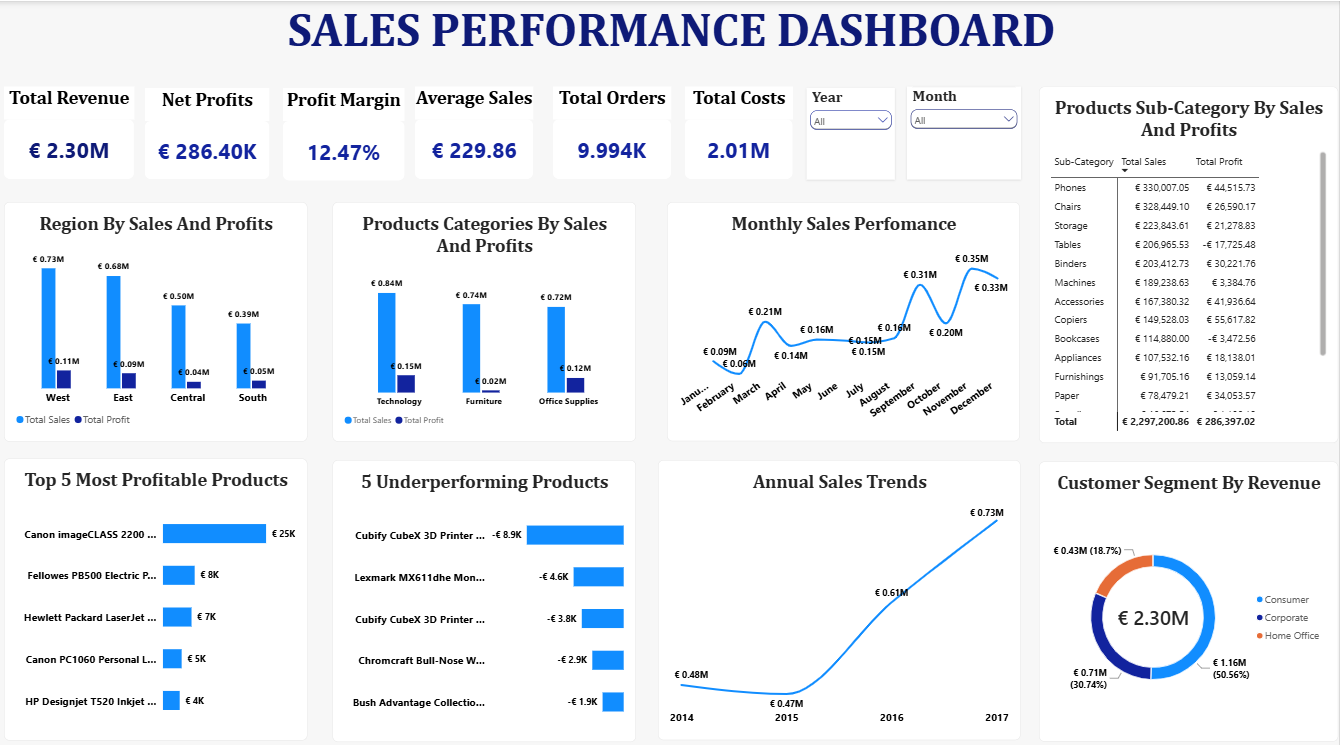

This screenshot's page, from the dashboard's own definition file:
{"tool":"powerbi","page":{"name":"Page 1","canvas":[1920,1080],"ordinal":0},"visuals":[{"type":"textbox","title":"SALES PERFORMANCE DASHBOARD","box":[8.9,0,1912.1,92.3],"z":0},{"type":"cardVisual","title":"Total Revenue","fields":{"Data":["Sum(Sample - Superstore.Sales)"]},"box":[8.6,122.5,186.9,133.2],"z":1},{"type":"cardVisual","title":"Net Profits","fields":{"Data":["Sum(Sample - Superstore.Profit)"]},"box":[210.6,124.6,178.3,131.1],"z":2},{"type":"cardVisual","title":"Total Orders","fields":{"Data":["CountNonNull(Sample - Superstore.Order ID)"]},"box":[795,122.5,169.7,132.4],"z":3},{"type":"cardVisual","title":"Average Sales","fields":{"Data":["Avg(Sample - Superstore.Sales)"]},"box":[597.3,122.5,169.7,132.4],"z":4},{"type":"cardVisual","title":"Profit Margin","fields":{"Data":["Sample - Superstore.Profits Margin"]},"box":[408.2,124.6,174,133.2],"z":5},{"type":"clusteredColumnChart","title":"Region By Sales And Profits","fields":{"Category":["Sample - Superstore.Region"],"Y":["Sum(Sample - Superstore.Sales)","Sum(Sample - Superstore.Profit)"]},"box":[9.1,288.6,434.4,343.3],"z":6},{"type":"donutChart","title":"Customer Segment By Revenue","fields":{"Category":["Sample - Superstore.Segment"],"Y":["Sum(Sample - Superstore.Sales)"]},"box":[1491.6,659.2,428.4,401],"z":7},{"type":"clusteredColumnChart","title":"Products Categories By Sales And Profits","fields":{"Category":["Sample - Superstore.Category"],"Y":["Sum(Sample - Superstore.Sales)","Sum(Sample - Superstore.Profit)"]},"box":[480,288.6,434.4,343.3],"z":8},{"type":"clusteredBarChart","title":"Top 5 Most Profitable Products","fields":{"Category":["Sample - Superstore.Product Name"],"Y":["Sum(Sample - Superstore.Profit)"]},"box":[9.1,656.2,434.4,404.1],"z":9},{"type":"clusteredBarChart","title":"5 Underperforming Products","fields":{"Category":["Sample - Superstore.Product Name"],"Y":["Sum(Sample - Superstore.Profit)"]},"box":[480,657.9,434.4,404.1],"z":10},{"type":"lineChart","title":"Annual Sales Trends","fields":{"Category":["Sample - Superstore.Order Date.Variation.Date Hierarchy.Year"],"Y":["Sum(Sample - Superstore.Sales)"]},"box":[945,656.8,519.5,401],"z":11},{"type":"pivotTable","title":"Products Sub-Category By Sales And Profits","fields":{"Rows":["Sample - Superstore.Sub-Category"],"Values":["Sum(Sample - Superstore.Sales)","Sum(Sample - Superstore.Profit)"]},"box":[1491.6,121.5,428.4,510.4],"z":12},{"type":"slicer","title":"Products Categories By Sales And Profits","fields":{"Values":["Sample - Superstore.Order Date.Variation.Date Hierarchy.Month"]},"box":[1302,122.5,163.3,133.2],"z":13},{"type":"lineChart","title":"Monthly Sales Perfomance","fields":{"Category":["Sample - Superstore.Order Date.Variation.Date Hierarchy.Month"],"Y":["Sum(Sample - Superstore.Sales)"]},"box":[959.2,288.2,505.6,342.6],"z":15},{"type":"cardVisual","title":"Total Costs","fields":{"Data":["Sum(Sample - Superstore.Cost)"]},"box":[984.1,122.5,154.7,133.2],"z":16},{"type":"slicer","fields":{"Values":["Sample - Superstore.Order Date.Variation.Date Hierarchy.Year"]},"box":[1158.1,124.6,126.8,131.1],"z":17}]}

Visuals, with their boxes in screenshot pixels (x1, y1, x2, y2), scaled from the page's 1920x1080 canvas onto the 1340x745 screenshot:
"SALES PERFORMANCE DASHBOARD" textbox: 6 0 1339 64
"Total Revenue" cardVisual: 6 85 136 176
"Net Profits" cardVisual: 147 86 271 176
"Total Orders" cardVisual: 555 85 673 176
"Average Sales" cardVisual: 417 85 535 176
"Profit Margin" cardVisual: 285 86 406 178
"Region By Sales And Profits" clusteredColumnChart: 6 199 310 436
"Customer Segment By Revenue" donutChart: 1041 455 1339 731
"Products Categories By Sales And Profits" clusteredColumnChart: 335 199 638 436
"Top 5 Most Profitable Products" clusteredBarChart: 6 453 310 731
"5 Underperforming Products" clusteredBarChart: 335 454 638 733
"Annual Sales Trends" lineChart: 660 453 1022 730
"Products Sub-Category By Sales And Profits" pivotTable: 1041 84 1339 436
"Products Categories By Sales And Profits" slicer: 909 85 1023 176
"Monthly Sales Perfomance" lineChart: 669 199 1022 435
"Total Costs" cardVisual: 687 85 795 176
slicer - Sample - Superstore.Order Date.Variation.Date Hierarchy.Year: 808 86 897 176
